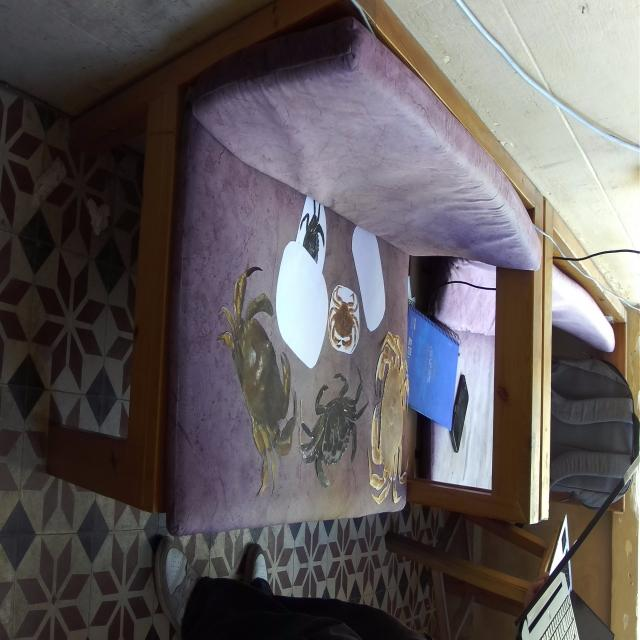European_Green_Crab: (290, 357, 381, 500), (291, 189, 332, 289)
